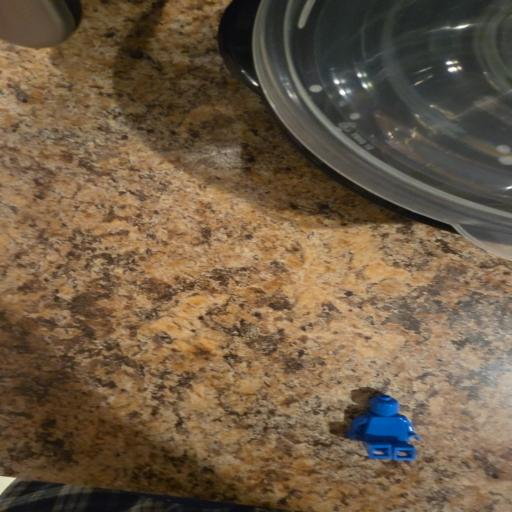Blue: (347, 395, 419, 460)
